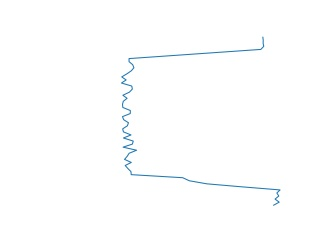distributaryChannelFill: (118, 37, 285, 209)
